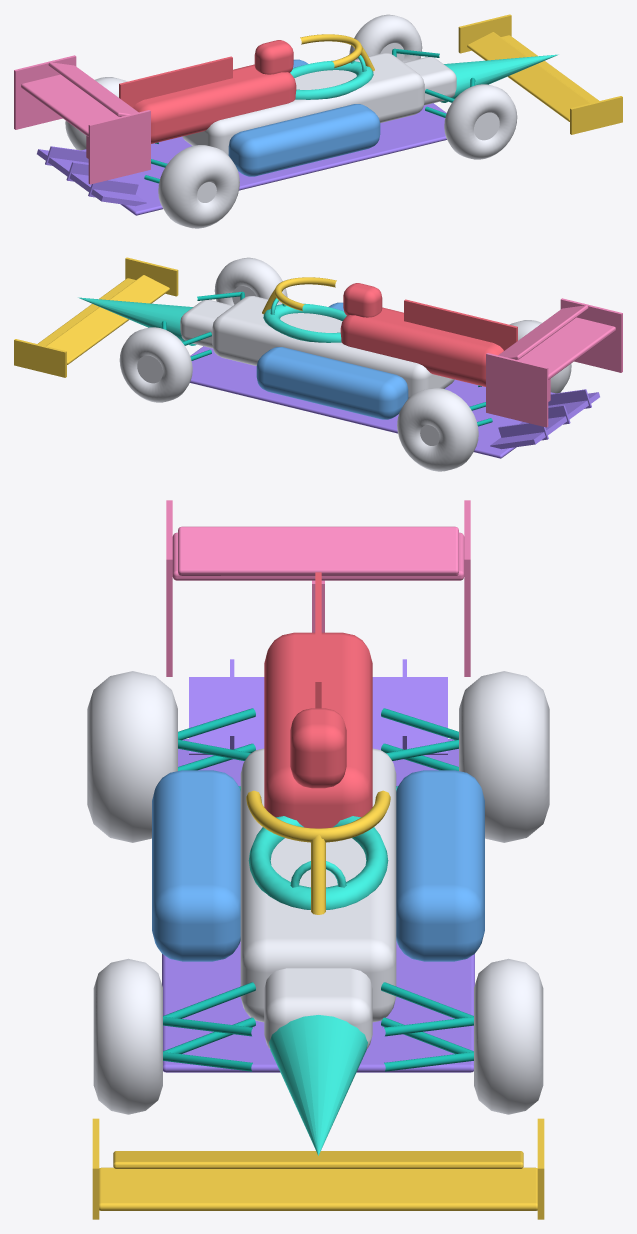
The model's file is f1-car.glb.
The picture shows the model from 3 angles, top to bottom: view 1: azimuth 30°, elevation 25°; view 2: azimuth 150°, elevation 25°; view 3: azimuth 270°, elevation 25°; orthographic projection. The views are drawn at different scales.
Parts seen in each view (by area): view 1: engine-cover_mesh (×3), rear-wing_mesh (×4), chassis_mesh (×2), sidepod-l_mesh, front-wing_mesh (×4), floor_mesh, wheel-rl_mesh (×2), wheel-fl_mesh (×2), diffuser_mesh (×2), wheel-fr_mesh, nose_mesh, cockpit_mesh (+3 smaller); view 2: engine-cover_mesh (×3), rear-wing_mesh (×4), chassis_mesh (×2), sidepod-r_mesh, front-wing_mesh (×4), floor_mesh, wheel-rr_mesh (×2), wheel-fr_mesh (×2), diffuser_mesh (×2), wheel-fl_mesh, nose_mesh, cockpit_mesh (+3 smaller); view 3: chassis_mesh (×2), front-wing_mesh (×2), engine-cover_mesh (×3), rear-wing_mesh (×4), floor_mesh, sidepod-l_mesh, sidepod-r_mesh, wheel-rl_mesh, wheel-rr_mesh, wheel-fl_mesh, wheel-fr_mesh, diffuser_mesh (+5 smaller).
Boxes of the visible parts, left/top/right/bottom form: engine-cover_mesh (×3): left=119, top=40, right=296, bottom=143; rear-wing_mesh (×4): left=14, top=55, right=150, bottom=184; chassis_mesh (×2): left=182, top=53, right=456, bottom=155; sidepod-l_mesh: left=228, top=104, right=380, bottom=176; front-wing_mesh (×4): left=458, top=14, right=622, bottom=134; floor_mesh: left=82, top=103, right=446, bottom=215; wheel-rl_mesh (×2): left=158, top=145, right=239, bottom=228; wheel-fl_mesh (×2): left=444, top=84, right=517, bottom=159; diffuser_mesh (×2): left=37, top=146, right=146, bottom=206; wheel-fr_mesh: left=349, top=14, right=422, bottom=62; nose_mesh: left=440, top=54, right=558, bottom=102; cockpit_mesh: left=290, top=60, right=373, bottom=99; engine-cover_mesh (×3): left=340, top=283, right=517, bottom=386; rear-wing_mesh (×4): left=486, top=298, right=622, bottom=427; chassis_mesh (×2): left=180, top=296, right=454, bottom=398; sidepod-r_mesh: left=256, top=347, right=408, bottom=419; front-wing_mesh (×4): left=14, top=257, right=178, bottom=377; floor_mesh: left=190, top=346, right=554, bottom=458; wheel-rr_mesh (×2): left=397, top=388, right=478, bottom=471; wheel-fr_mesh (×2): left=119, top=327, right=192, bottom=402; diffuser_mesh (×2): left=490, top=389, right=599, bottom=449; wheel-fl_mesh: left=214, top=257, right=287, bottom=305; nose_mesh: left=78, top=297, right=196, bottom=345; cockpit_mesh: left=263, top=303, right=346, bottom=342; chassis_mesh (×2): left=240, top=748, right=396, bottom=1048; front-wing_mesh (×2): left=99, top=1151, right=537, bottom=1210; engine-cover_mesh (×3): left=264, top=572, right=372, bottom=828; rear-wing_mesh (×4): left=166, top=500, right=470, bottom=676; floor_mesh: left=162, top=739, right=474, bottom=1072; sidepod-l_mesh: left=152, top=770, right=240, bottom=961; sidepod-r_mesh: left=396, top=770, right=484, bottom=961; wheel-rl_mesh: left=87, top=671, right=177, bottom=842; wheel-rr_mesh: left=459, top=671, right=549, bottom=842; wheel-fl_mesh: left=93, top=958, right=162, bottom=1114; wheel-fr_mesh: left=474, top=958, right=543, bottom=1114; diffuser_mesh: left=189, top=677, right=447, bottom=754.
Bounding box in the file's own units: 5.5 × 1.24 × 2.14.
